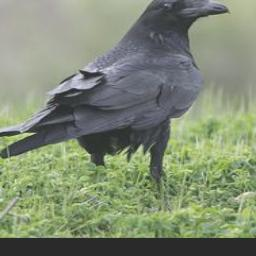Crow: (0, 0, 229, 193)
